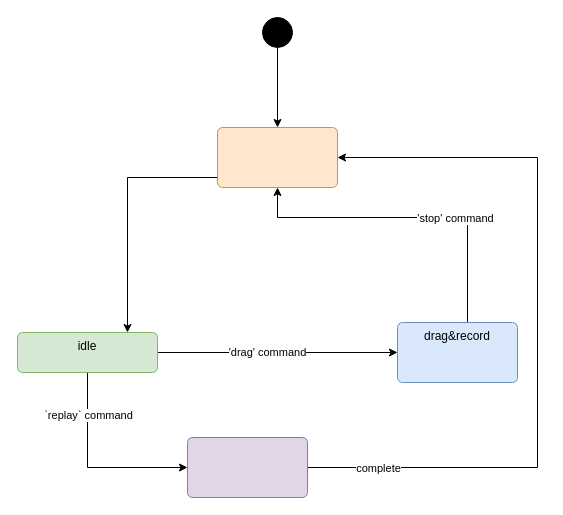
This 563x515 diagram has some shape labels left out. Here are the shapes that lost their labels. From the top down, the centre of each, then its label:
At point (277, 157): "resetting".
At point (247, 467): "replay&record".
